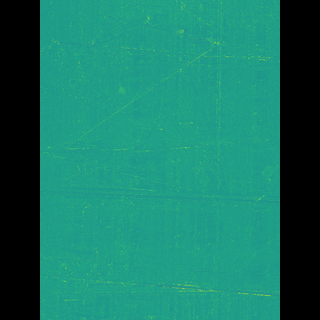Loch: (78, 0, 234, 319), (73, 238, 249, 301), (83, 6, 240, 66), (71, 174, 250, 207)
